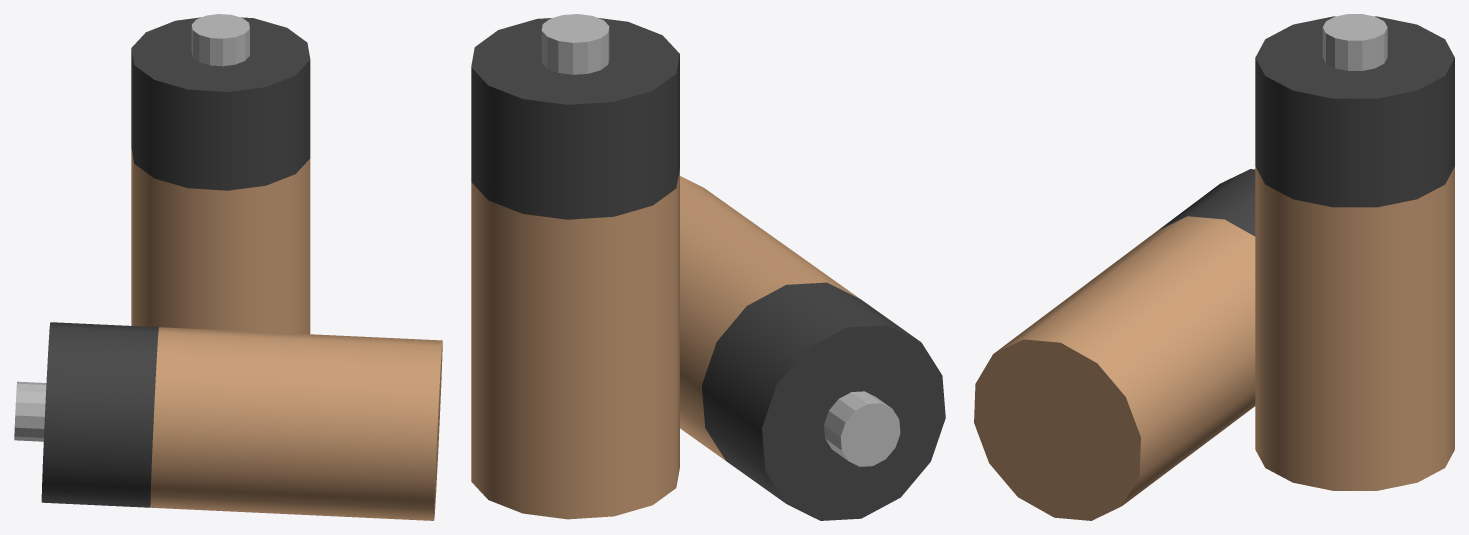
The model's file is T1_BATTERY.fbx.
3 renders of one model, left to right at view 1: azimuth 30°, elevation 25°; view 2: azimuth 150°, elevation 25°; view 3: azimuth 270°, elevation 25°, orthographic. The views are drawn at different scales.
Parts seen in each view (by area): view 1: BATTERY; view 2: BATTERY; view 3: BATTERY.
Boxes of the visible parts, box(x1,y1,x2,y2) form: BATTERY: box(14, 14, 442, 520); BATTERY: box(471, 14, 945, 520); BATTERY: box(974, 14, 1454, 520).
Size of the model in its own units: 0.6766 by 0.6887 by 0.7091.
